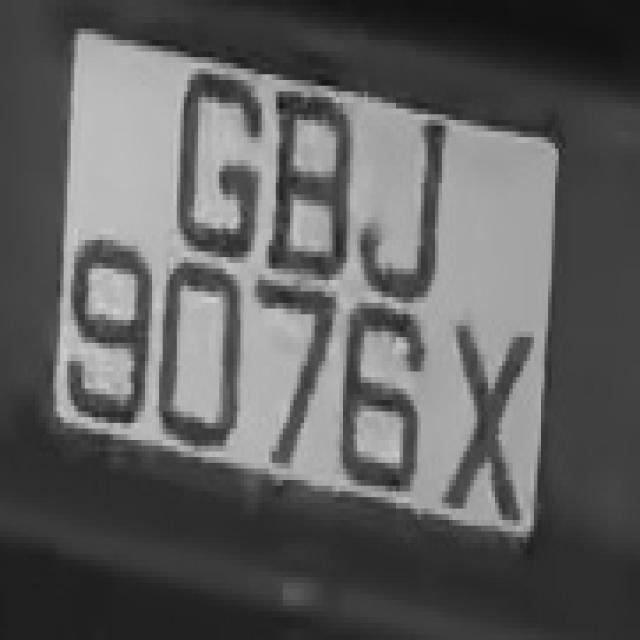0: (149, 228, 251, 468)
6: (329, 274, 428, 492)
7: (244, 263, 336, 497)
9: (57, 211, 152, 440)
B: (269, 57, 357, 320)
G: (163, 45, 272, 268)
J: (353, 63, 452, 308)
X: (449, 280, 534, 549)
